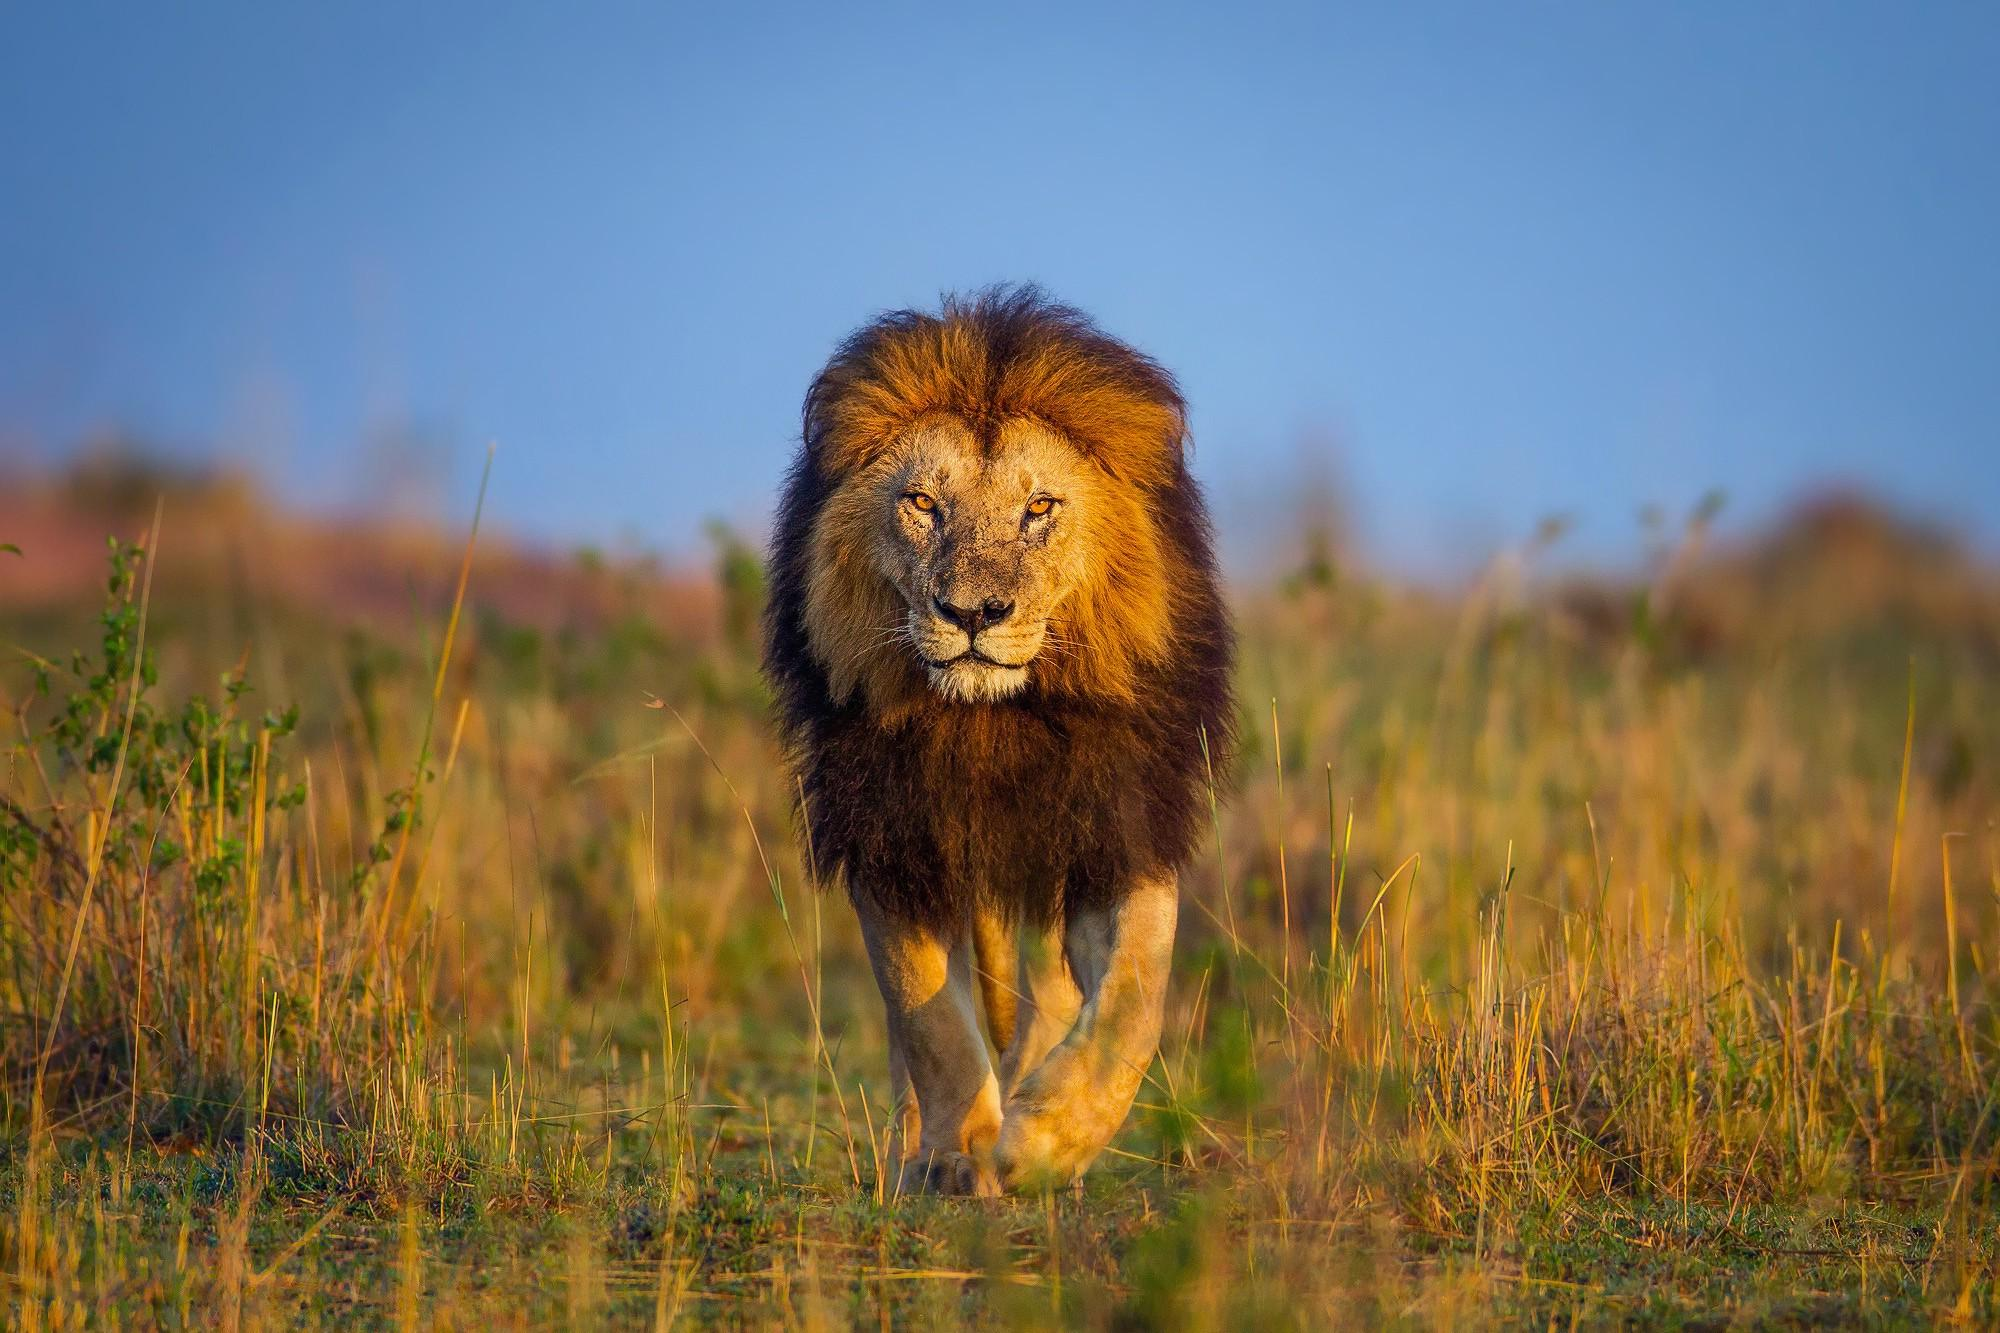lions: (561, 104, 1853, 1333)
